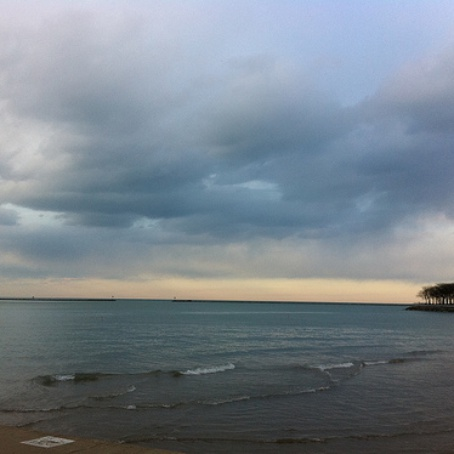sea: (1, 304, 450, 454)
sky: (1, 1, 439, 294)
